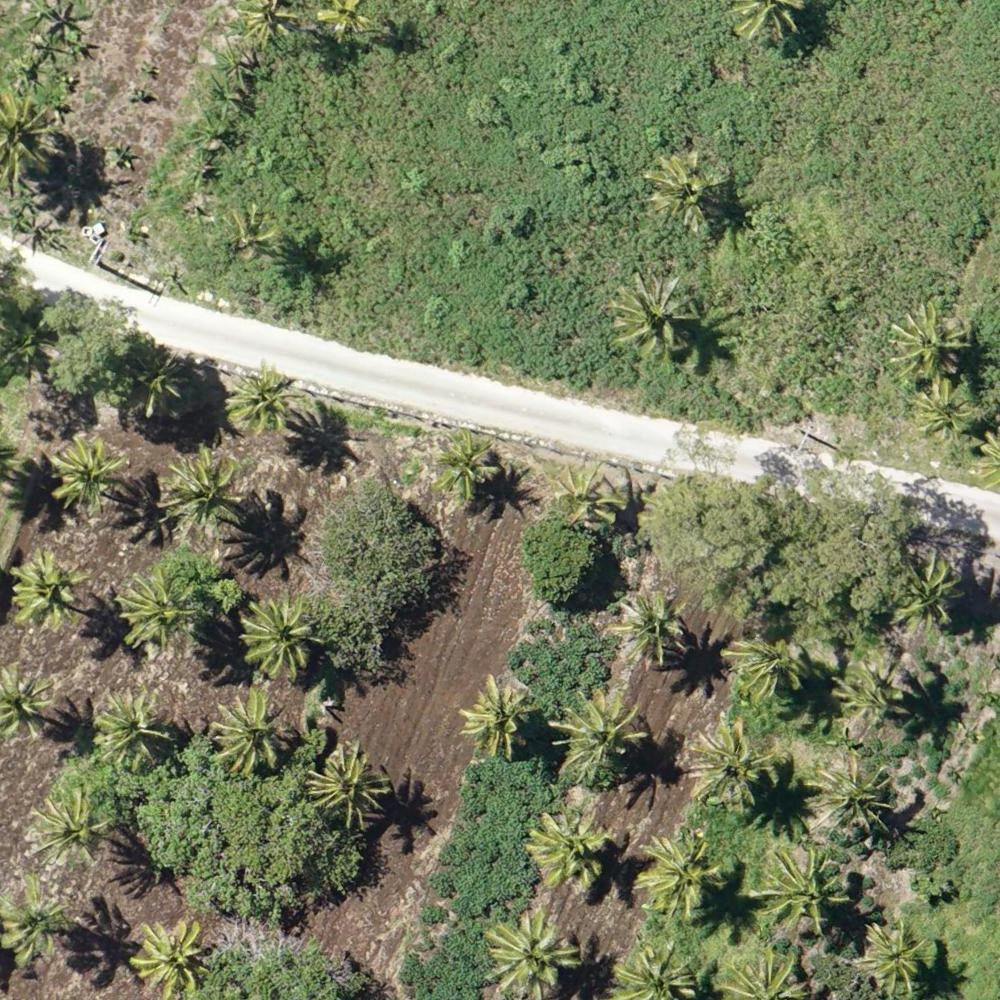Palm: (805, 752, 895, 841), (485, 913, 579, 994), (763, 847, 852, 931), (613, 268, 696, 357), (163, 445, 248, 528), (689, 724, 770, 810), (553, 694, 640, 774), (641, 827, 724, 910), (209, 690, 292, 772), (131, 916, 215, 995), (532, 808, 609, 894), (48, 430, 126, 513), (4, 552, 81, 635), (308, 746, 385, 829), (236, 597, 317, 674), (645, 150, 724, 227), (32, 793, 114, 865), (723, 635, 807, 705), (115, 573, 191, 650), (897, 552, 966, 635), (4, 882, 72, 965), (222, 369, 304, 434), (895, 304, 967, 375), (858, 918, 926, 993), (95, 686, 166, 757), (463, 677, 533, 747), (617, 596, 686, 667), (615, 943, 704, 998), (426, 431, 491, 499), (1, 670, 61, 739), (553, 460, 616, 524), (909, 381, 976, 441), (225, 207, 278, 262)
